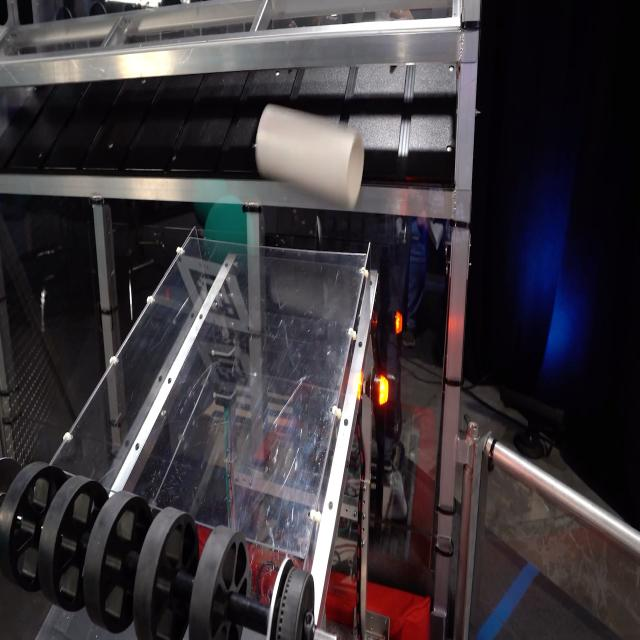Coral: (255, 105, 365, 211)
